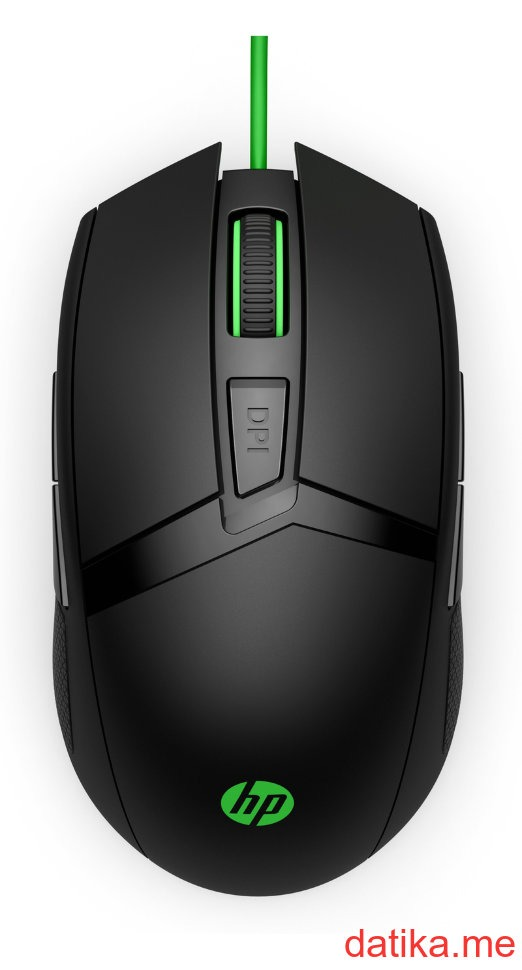mouse: (47, 138, 465, 902)
